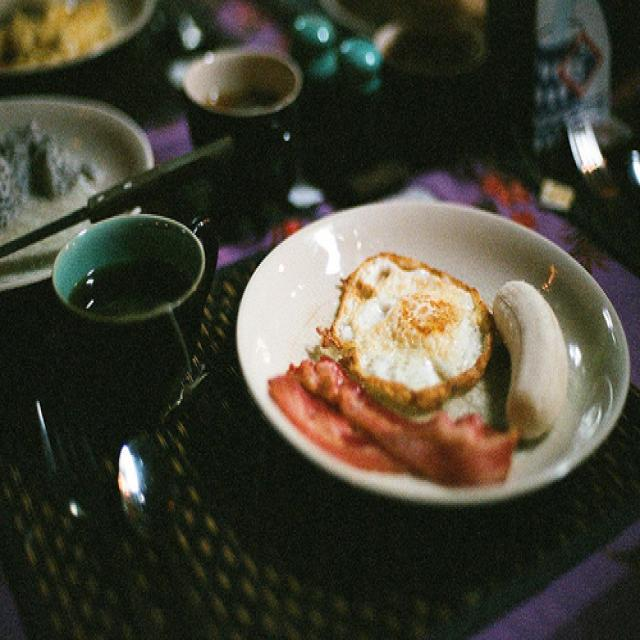Cup: (63, 205, 214, 427), (191, 45, 309, 197)
